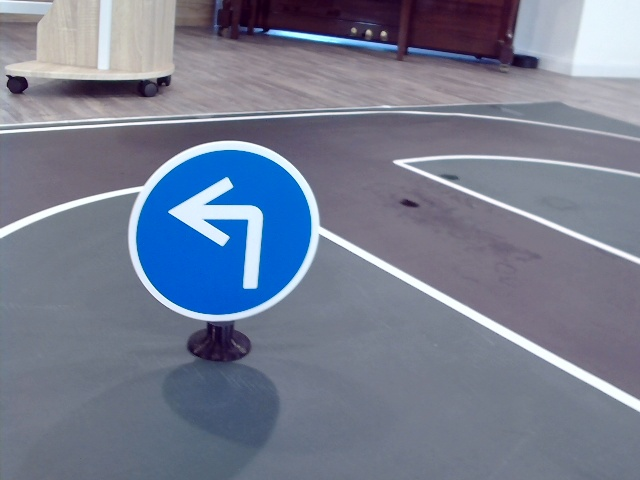turn_left: (165, 174, 268, 287)
